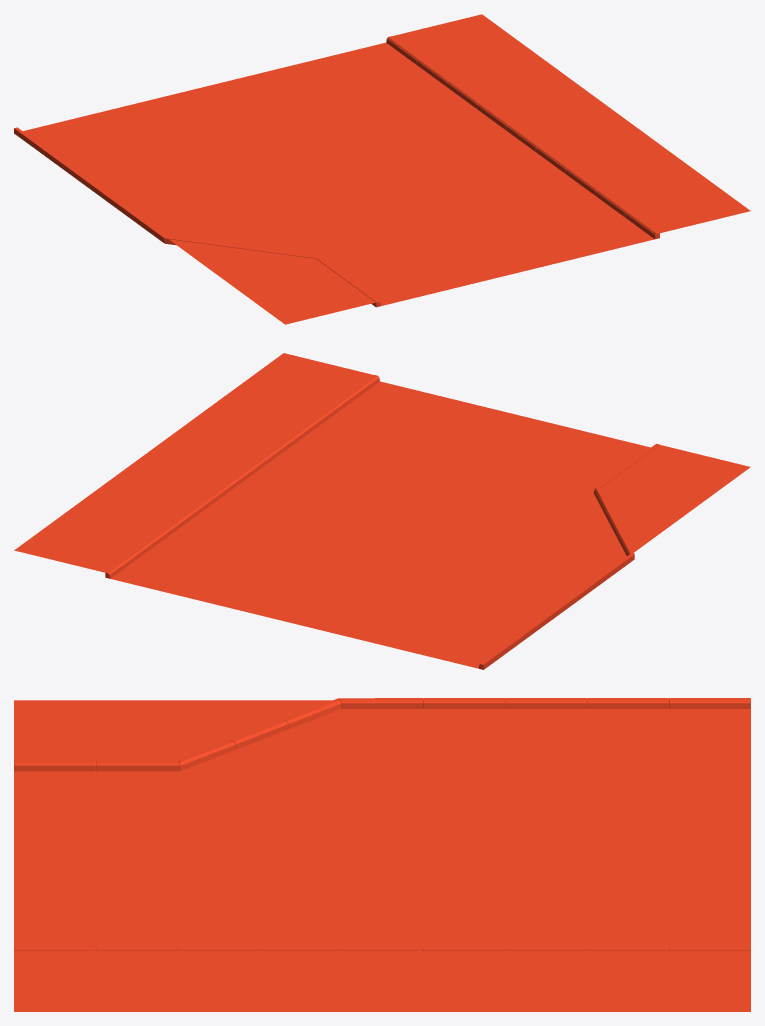
Rendered from SM_Road_Stop_Start_L_10x10_City.fbx.
3 views of the same model, one above another, from view 1: azimuth 30°, elevation 25°; view 2: azimuth 150°, elevation 25°; view 3: azimuth 270°, elevation 25° (orthographic). The views are drawn at different scales.
Visible parts, largest first — view 1: SM_Road_Stop_Start_L_10x10_City; view 2: SM_Road_Stop_Start_L_10x10_City; view 3: SM_Road_Stop_Start_L_10x10_City.
Boxes of the visible parts, x1,y1,x2,y2 form: SM_Road_Stop_Start_L_10x10_City: [14, 14, 750, 324]; SM_Road_Stop_Start_L_10x10_City: [14, 353, 750, 669]; SM_Road_Stop_Start_L_10x10_City: [14, 698, 750, 1011].
Size of the model in its own units: 10.05 by 0.1149 by 10.
